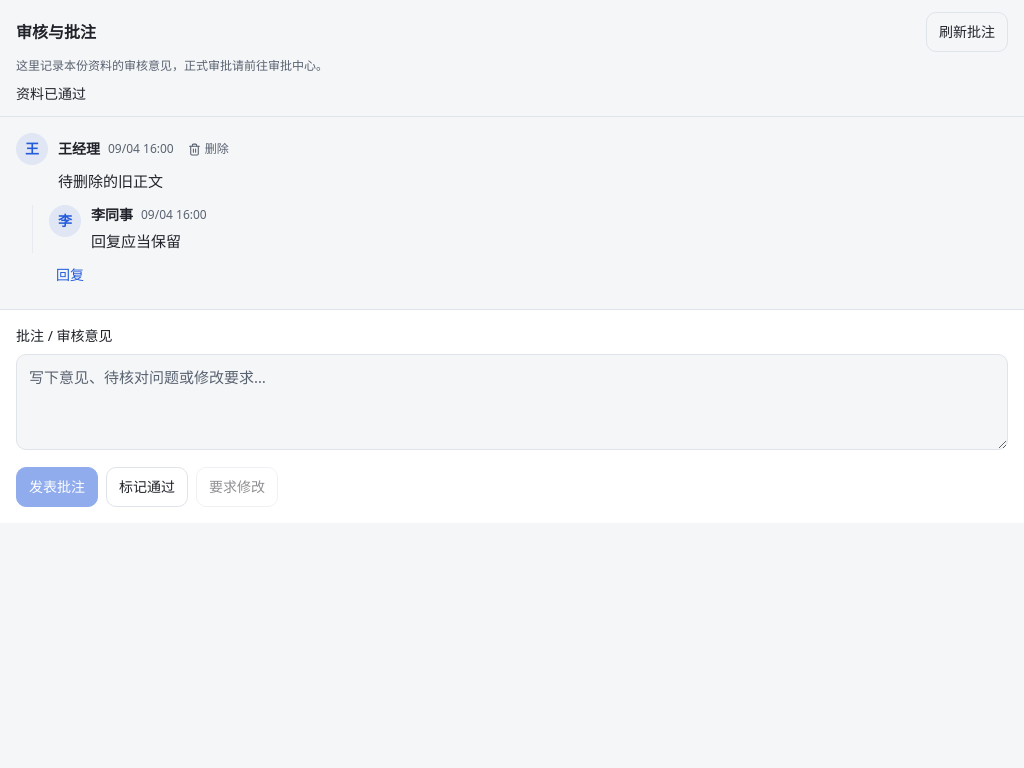
Scenario: deletes after confirmation, refreshes status and clears the deleted comment's reply draft
The width and height of the screenshot is (1024, 768).
Expected: the text "待删除的旧正文" is shown, x1=58 y1=171 x2=163 y2=191
Click the button "回复" at (70, 275), box x1=56 y1=257 x2=84 y2=293
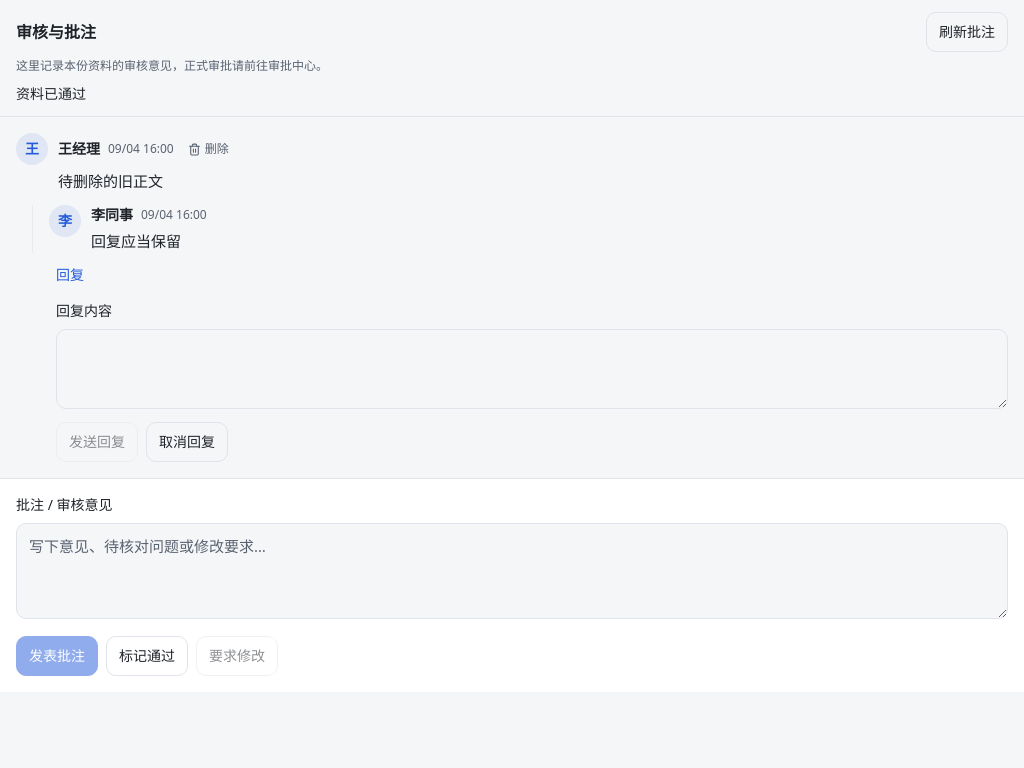
Type "未发送的回复" into the text box labelled "回复内容" at (532, 369), box x1=56 y1=329 x2=1008 y2=409
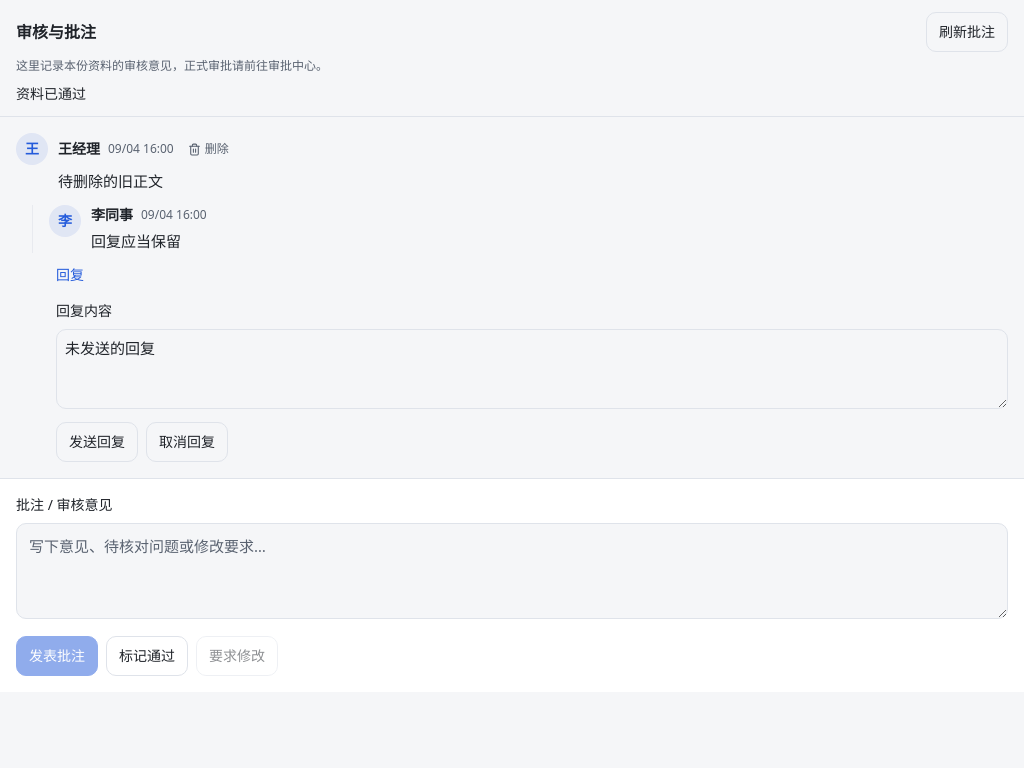
Click the button with aria-label "删除评论" at (208, 149), box x1=182 y1=133 x2=235 y2=165
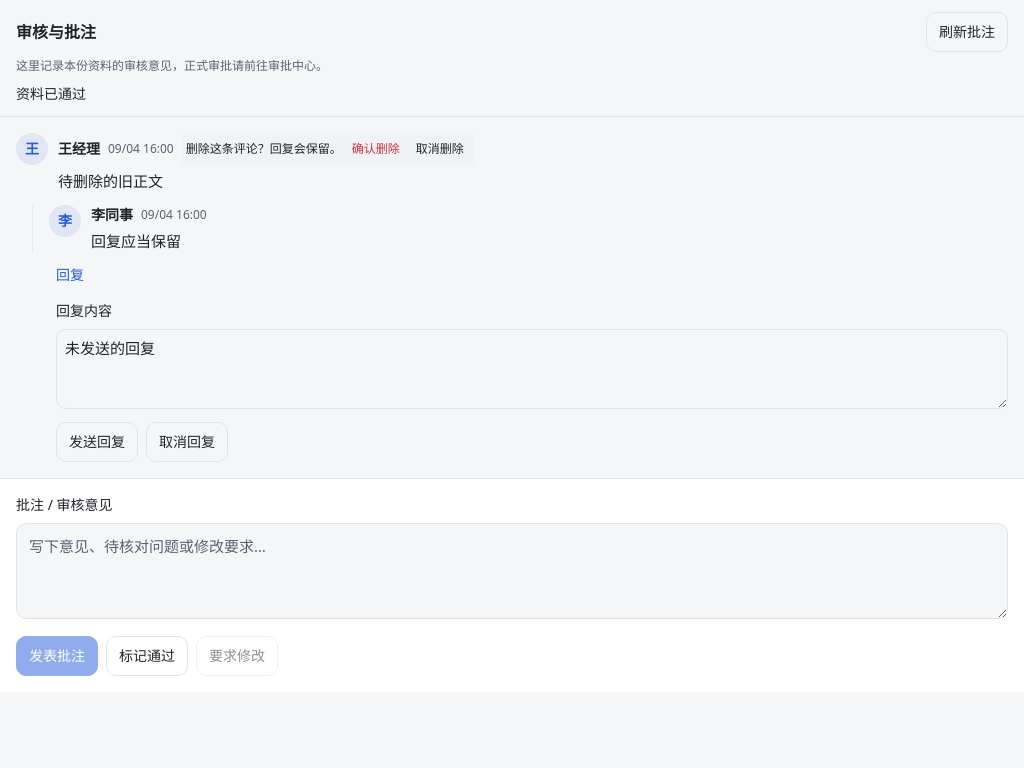
Click the button "确认删除" at (376, 149), box x1=346 y1=133 x2=406 y2=165
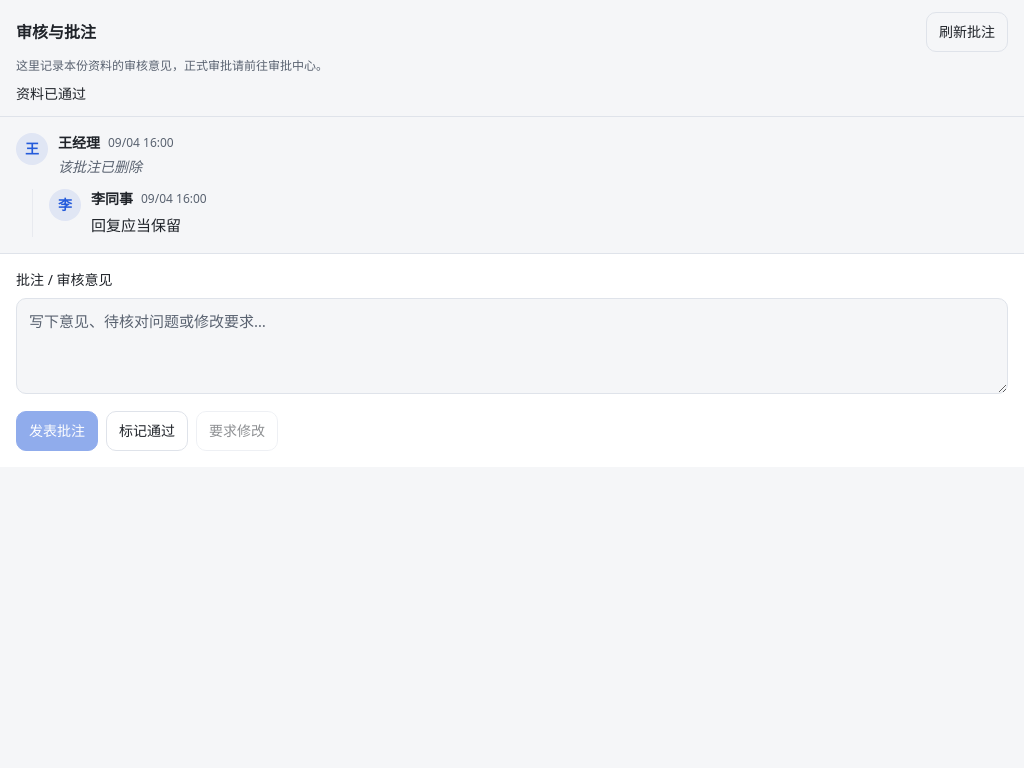
Expected: the text "回复应当保留" is shown, x1=91 y1=215 x2=181 y2=235
Now the text "该批注已删除" is shown, box x1=58 y1=157 x2=142 y2=176
Now the label labelled "回复内容" is gone
